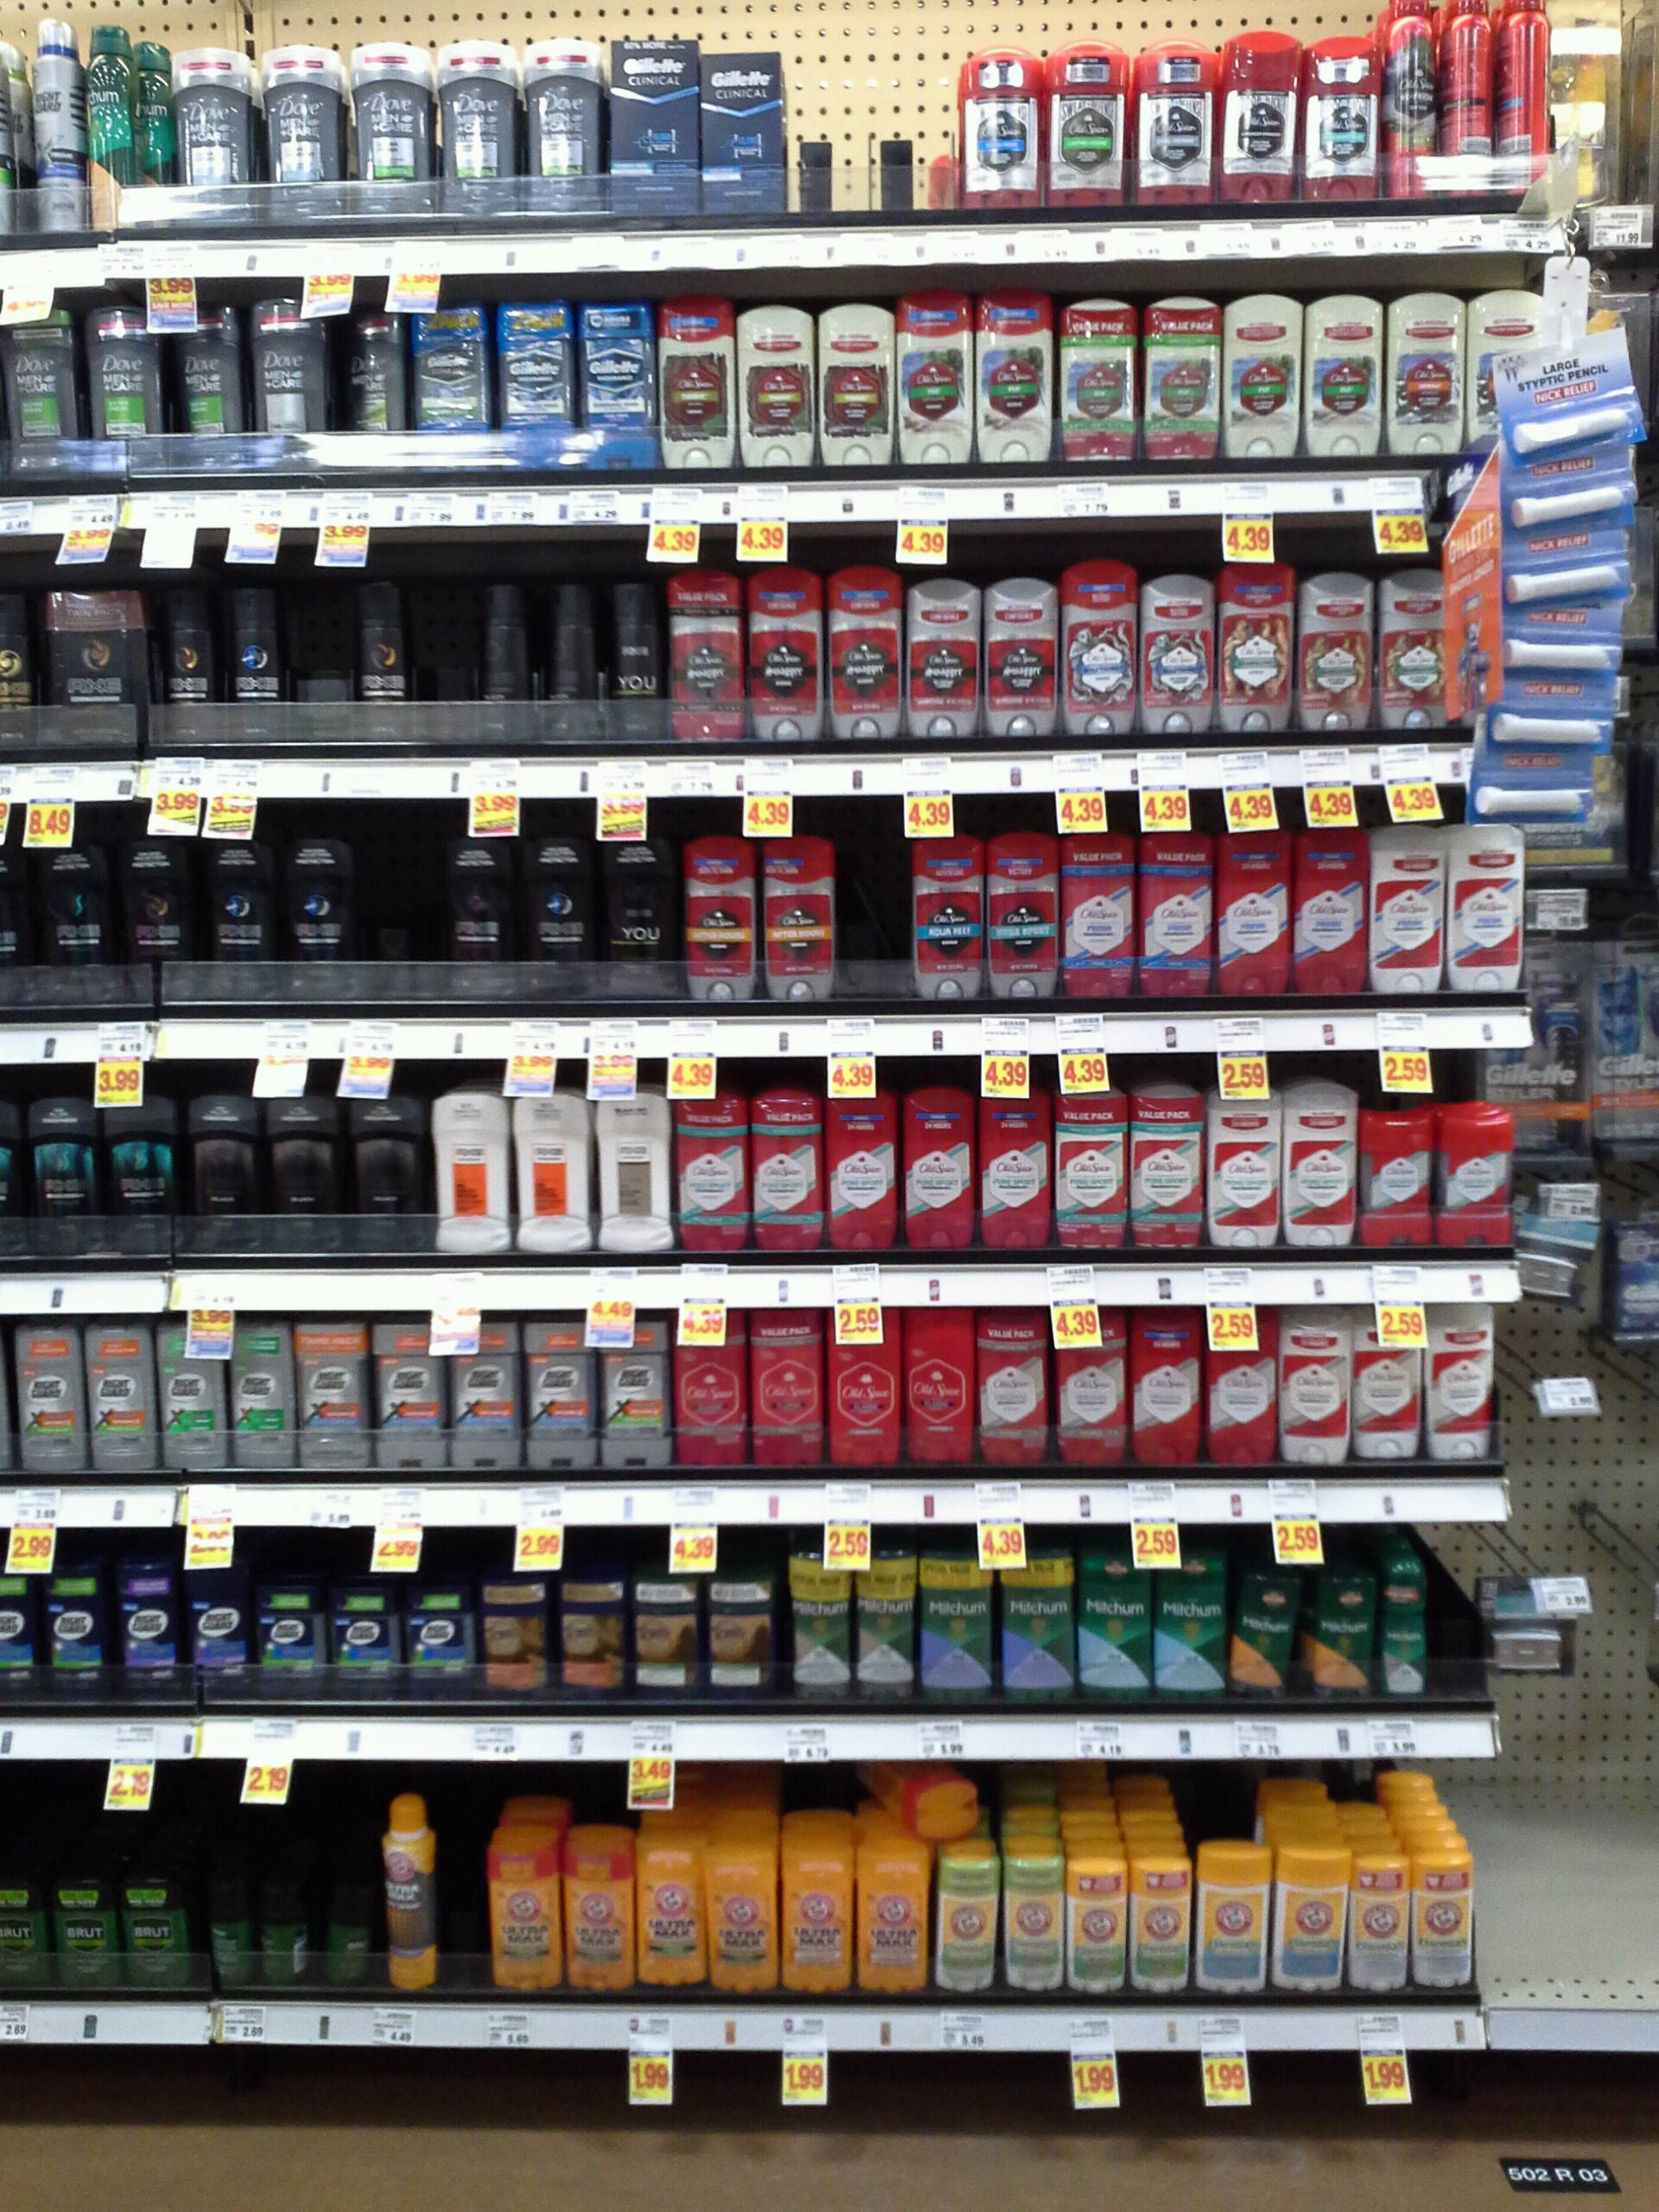product: (1502, 345, 1656, 455), (47, 585, 150, 742), (247, 289, 329, 481), (610, 33, 695, 216), (429, 1087, 512, 1264), (960, 40, 1046, 212), (1133, 33, 1216, 207), (436, 33, 518, 211), (1446, 815, 1527, 995), (1218, 554, 1295, 740), (1051, 1075, 1127, 1261), (993, 1531, 1075, 1705), (33, 827, 113, 1005), (669, 564, 748, 745), (263, 40, 342, 221), (352, 37, 430, 218), (1220, 26, 1298, 207), (162, 296, 239, 479), (1208, 1075, 1283, 1261), (413, 296, 493, 470), (1556, 7, 1626, 206), (267, 1085, 343, 1264), (751, 564, 826, 747), (702, 47, 784, 214), (899, 291, 976, 469), (598, 1083, 673, 1264), (899, 1080, 974, 1261), (1051, 40, 1133, 206), (1143, 294, 1222, 467), (823, 1076, 896, 1261), (1302, 568, 1378, 744), (986, 822, 1061, 1001), (89, 296, 160, 484), (981, 287, 1054, 470), (1284, 1076, 1358, 1259), (1065, 550, 1134, 742), (829, 561, 901, 747), (3, 303, 78, 481), (739, 300, 816, 472), (662, 294, 735, 474), (525, 33, 598, 212), (518, 1082, 591, 1261), (985, 575, 1060, 749), (1133, 1078, 1204, 1259), (335, 303, 410, 475), (819, 296, 894, 469), (26, 1092, 101, 1264), (762, 831, 838, 998), (199, 834, 275, 1001), (1140, 829, 1215, 1000), (173, 47, 247, 218), (683, 829, 758, 1000), (1218, 826, 1291, 1000), (188, 1089, 260, 1266), (1371, 815, 1443, 993), (1305, 33, 1382, 199), (1309, 291, 1384, 460), (910, 829, 983, 1001), (906, 571, 978, 747), (1065, 298, 1136, 474), (1140, 571, 1215, 738), (1229, 291, 1302, 462), (352, 1089, 423, 1263), (1298, 819, 1370, 993), (673, 1308, 748, 1474), (1082, 1534, 1155, 1703), (603, 833, 676, 1001), (118, 827, 190, 1000), (580, 296, 657, 456), (1384, 564, 1453, 740), (781, 1831, 854, 1998), (112, 1085, 179, 1264), (1129, 1305, 1202, 1470), (382, 1792, 443, 1991), (1204, 1303, 1276, 1472), (1065, 826, 1134, 998), (981, 1082, 1049, 1258), (924, 1534, 993, 1705), (1424, 1301, 1497, 1463), (831, 1305, 899, 1479), (906, 1306, 974, 1479), (680, 1087, 748, 1258), (1394, 287, 1464, 453), (755, 1083, 821, 1258), (500, 298, 573, 455), (373, 1312, 444, 1472), (1385, 0, 1443, 199), (755, 1312, 824, 1475), (491, 1831, 561, 1994), (14, 1318, 85, 1477), (1283, 1305, 1352, 1467), (1272, 1836, 1344, 1993), (159, 1313, 225, 1482), (525, 834, 592, 998), (981, 1305, 1046, 1477), (702, 1552, 777, 1700), (1441, 1106, 1518, 1251), (1161, 1531, 1227, 1698), (1199, 1839, 1269, 1996), (525, 1317, 594, 1474), (450, 1315, 518, 1475), (709, 1836, 777, 1996), (1058, 1308, 1124, 1472), (859, 1839, 929, 1994), (33, 14, 82, 235), (230, 1317, 298, 1475), (640, 1829, 706, 1991), (565, 1838, 634, 1991), (1354, 1299, 1419, 1465), (91, 1318, 157, 1479), (603, 1315, 669, 1475), (450, 833, 514, 996), (288, 829, 350, 996), (89, 19, 139, 226), (1445, 0, 1497, 199), (1502, 0, 1554, 199), (558, 1552, 627, 1698), (633, 1548, 701, 1698), (479, 1562, 551, 1703), (791, 1536, 850, 1703), (1473, 1573, 1574, 1670), (1312, 1561, 1382, 1702), (856, 1536, 915, 1702), (223, 585, 284, 745), (40, 1559, 108, 1702), (303, 1317, 364, 1475), (118, 1552, 181, 1700), (1366, 1106, 1432, 1245), (1413, 1843, 1478, 1986), (1129, 1853, 1194, 1996), (610, 575, 666, 738), (188, 1548, 247, 1702), (355, 575, 410, 742), (406, 1573, 476, 1702), (479, 578, 533, 738), (331, 1576, 399, 1703), (936, 1850, 995, 1994), (254, 1580, 322, 1705), (162, 582, 214, 744), (1006, 1850, 1065, 1993), (54, 1864, 118, 1993), (547, 578, 599, 737), (1237, 1566, 1298, 1700), (125, 1867, 190, 1987), (1352, 1850, 1406, 1991), (1072, 1853, 1126, 1994), (1387, 1555, 1436, 1702), (0, 1864, 51, 1996), (260, 1871, 308, 1994), (328, 1867, 371, 1993), (0, 585, 33, 749), (213, 1874, 256, 1994), (0, 1559, 35, 1709), (910, 1778, 985, 1838)
